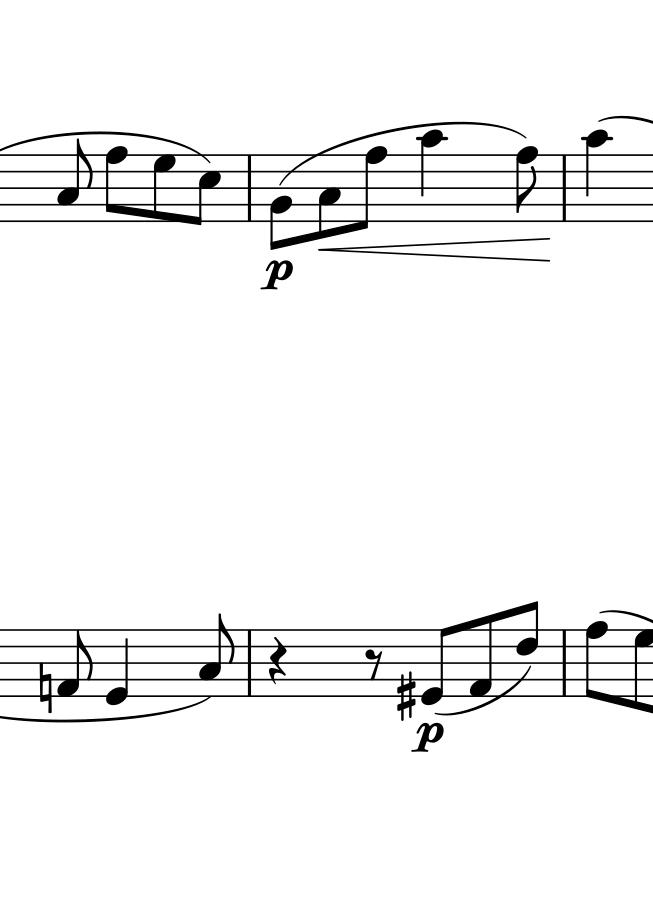2_10: (581, 129, 612, 224)
4_0: (105, 627, 133, 710)
4_10: (418, 128, 448, 226)
8_0: (421, 623, 454, 706)
8_1: (56, 628, 94, 699), (468, 612, 495, 700)
8_2: (267, 151, 297, 253)
8_3: (197, 612, 237, 698), (56, 137, 95, 224), (316, 151, 342, 241)
8_5: (190, 153, 223, 228)
8_6: (515, 598, 541, 699)
8_7: (631, 628, 653, 715), (150, 152, 176, 225)
8_8: (355, 142, 389, 233), (103, 144, 130, 226), (584, 619, 610, 703), (513, 144, 540, 221)
Crescendo_hairpin: (317, 237, 553, 263)
Natural: (38, 659, 54, 715)
Rests4: (265, 634, 288, 688)
Rests8: (361, 647, 383, 679)
Sharp: (396, 669, 418, 722)
Single_barline: (241, 154, 257, 221), (557, 155, 573, 221), (241, 629, 256, 696), (557, 629, 572, 696)
Slur: (274, 123, 528, 186), (435, 666, 535, 719)
p: (258, 257, 298, 296), (410, 720, 445, 757)
